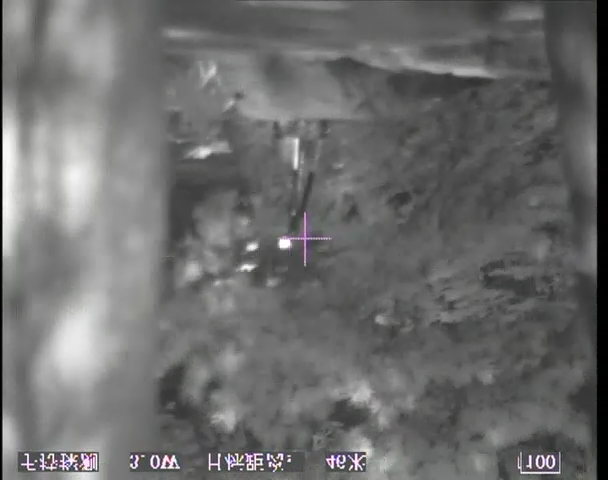my: (277, 236, 293, 251)
